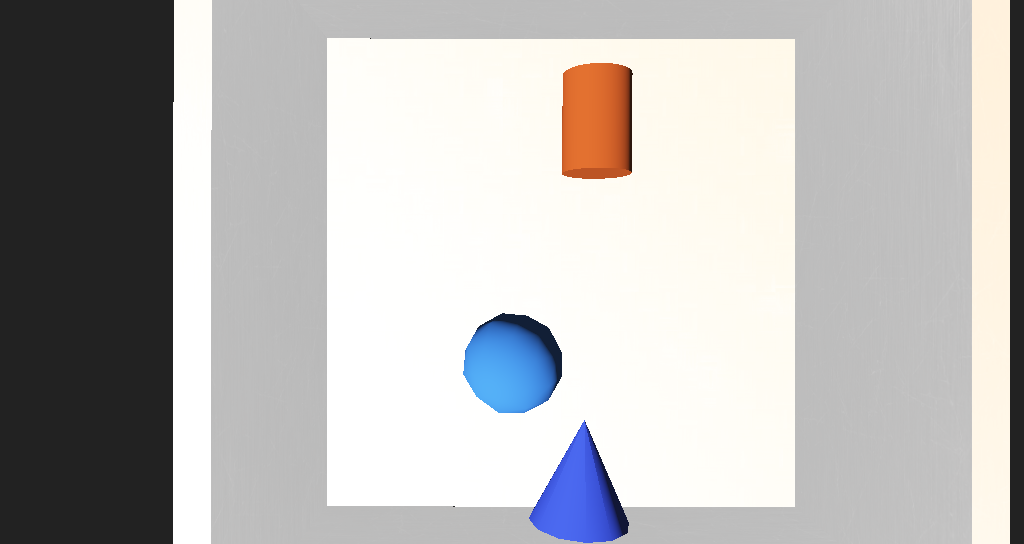cone: (509, 177, 556, 224)
cylinder: (488, 329, 549, 387)
sphere: (438, 289, 505, 332)
